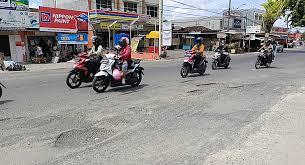Pothole: (46, 119, 131, 156), (174, 79, 269, 98)
